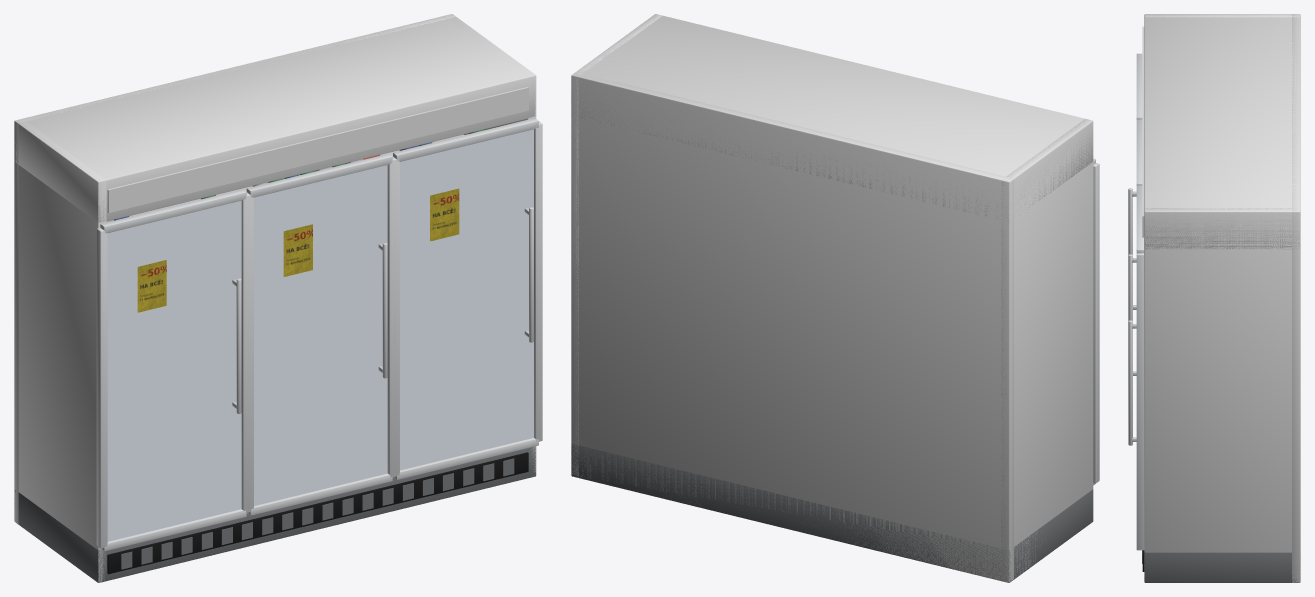
Rendered from FreezerGlassDoors.fbx.
3 renders of one model, left to right at view 1: azimuth 30°, elevation 25°; view 2: azimuth 150°, elevation 25°; view 3: azimuth 270°, elevation 25°, orthographic. The views are drawn at different scales.
Parts seen in each view (by area): view 1: FreezerGlassDoors; view 2: FreezerGlassDoors; view 3: FreezerGlassDoors.
Part boxes in pixels (bbox=[...]): FreezerGlassDoors: bbox=[14, 14, 542, 582]; FreezerGlassDoors: bbox=[571, 14, 1099, 582]; FreezerGlassDoors: bbox=[1128, 14, 1300, 582].
Bounding box in the file's own units: 2.42 × 2.1 × 0.882.
